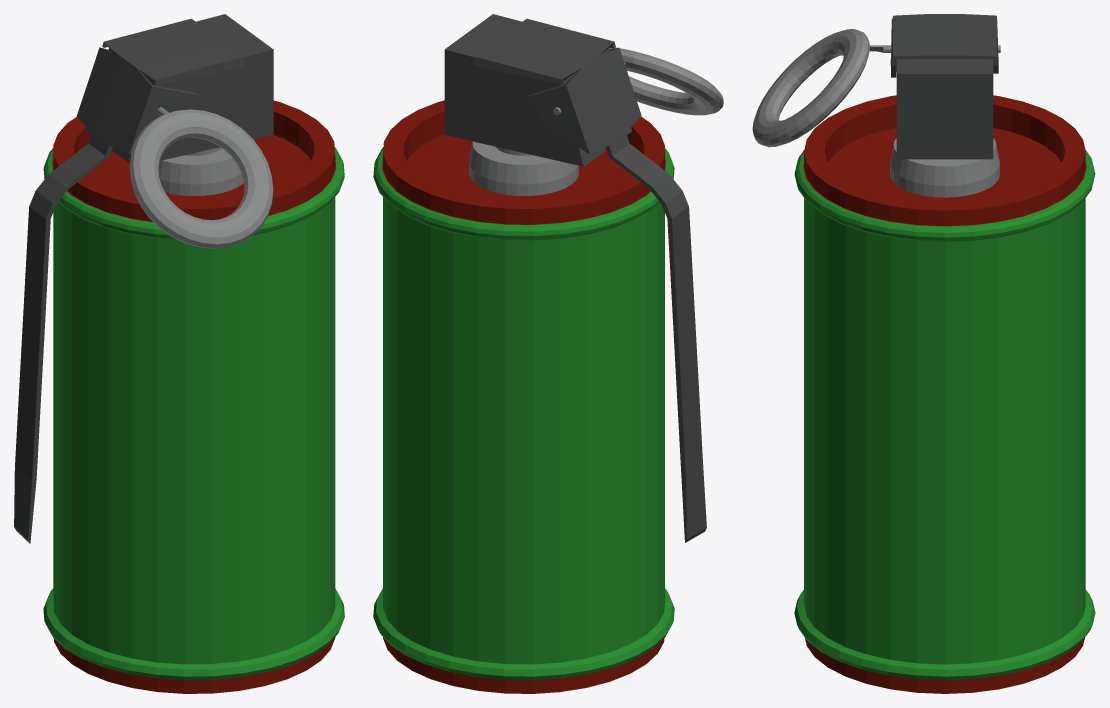
The model's file is Grenade.fbx.
3 views of the same model, side by side, from view 1: azimuth 30°, elevation 25°; view 2: azimuth 150°, elevation 25°; view 3: azimuth 270°, elevation 25° (orthographic).
Parts seen in each view (by area): view 1: Cylinder; view 2: Cylinder; view 3: Cylinder.
Boxes of the visible parts, bbox=[...] form: Cylinder: bbox=[14, 14, 344, 693]; Cylinder: bbox=[373, 14, 723, 693]; Cylinder: bbox=[752, 14, 1095, 693].
Bounding box in the file's own units: 280 × 518 × 273.
